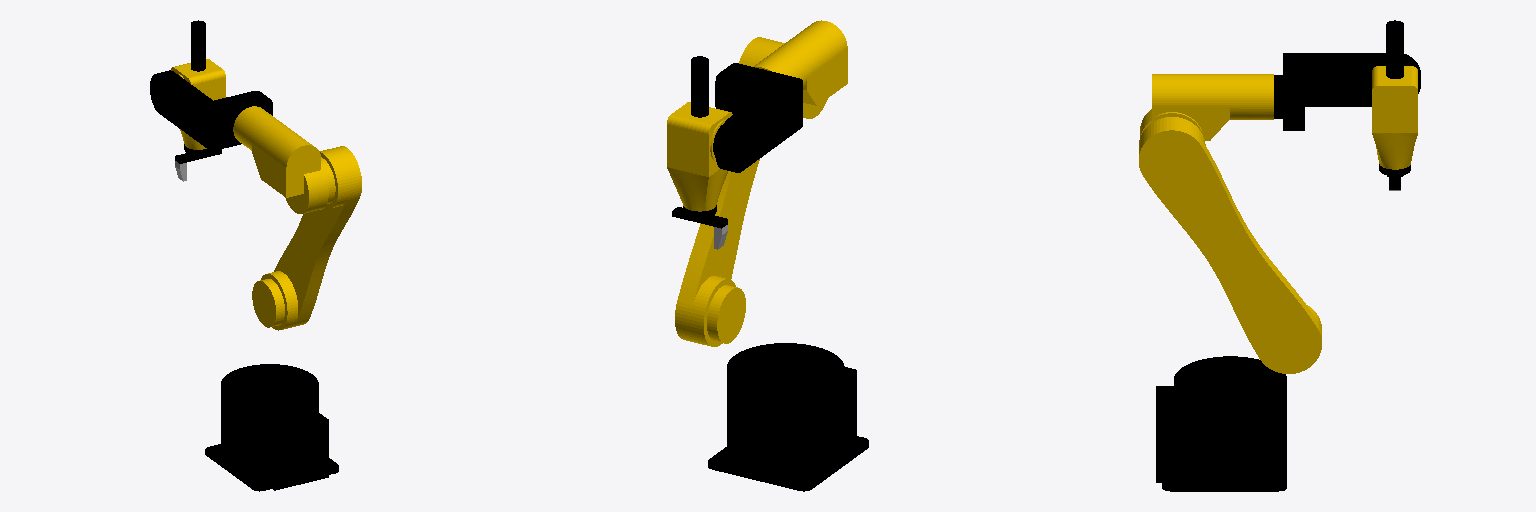
robot.urdf — majager:
<?xml version="1.0" ?>
<!-- =================================================================================== -->
<!-- |    This document was autogenerated by xacro from majager.xacro                  | -->
<!-- |    EDITING THIS FILE BY HAND IS NOT RECOMMENDED                                 | -->
<!-- =================================================================================== -->
<robot name="majager">
  <material name="silver">
    <color rgba="0.700 0.700 0.700 1.000"/>
  </material>
  <material name="Yellow">
    <color rgba="0.93 0.76 0.0 1.0"/>
  </material>
  <material name="Grey">
    <color rgba="0.7 0.7 0.7 1.0"/>
  </material>
  <material name="Black">
    <color rgba="0.0 0.0 0.0 1.0"/>
  </material>
  <gazebo>
    <plugin filename="libgazebo_ros_control.so" name="gazebo_ros_control">
      <robotSimType>gazebo_ros_control/DefaultRobotHWSim</robotSimType>
      <robotNamespace>/majager</robotNamespace>
      <robotParam>robot_description</robotParam>
      <legacyModeNS>true</legacyModeNS>
    </plugin>
  </gazebo>
  <gazebo reference="base_link">
    <material>Gazebo/Silver</material>
    <mu1>0.2</mu1>
    <mu2>0.2</mu2>
    <selfCollide>true</selfCollide>
    <gravity>true</gravity>
  </gazebo>
  <gazebo reference="Link1">
    <material>Gazebo/Silver</material>
    <mu1>0.2</mu1>
    <mu2>0.2</mu2>
    <selfCollide>true</selfCollide>
  </gazebo>
  <gazebo reference="Link2">
    <material>Gazebo/Silver</material>
    <mu1>0.2</mu1>
    <mu2>0.2</mu2>
    <selfCollide>true</selfCollide>
  </gazebo>
  <gazebo reference="Link3">
    <material>Gazebo/Silver</material>
    <mu1>0.2</mu1>
    <mu2>0.2</mu2>
    <selfCollide>true</selfCollide>
  </gazebo>
  <gazebo reference="Link4">
    <material>Gazebo/Silver</material>
    <mu1>0.2</mu1>
    <mu2>0.2</mu2>
    <selfCollide>true</selfCollide>
  </gazebo>
  <gazebo reference="Link5">
    <material>Gazebo/Silver</material>
    <mu1>0.2</mu1>
    <mu2>0.2</mu2>
    <selfCollide>true</selfCollide>
  </gazebo>
  <gazebo reference="Link6">
    <material>Gazebo/Silver</material>
    <mu1>0.2</mu1>
    <mu2>0.2</mu2>
    <selfCollide>true</selfCollide>
  </gazebo>
  <gazebo reference="Base_Gripper">
    <material>Gazebo/Silver</material>
    <mu1>0.2</mu1>
    <mu2>0.2</mu2>
    <selfCollide>true</selfCollide>
  </gazebo>
  <gazebo reference="Gripper_Left">
    <material>Gazebo/White</material>
    <mu1>1.0</mu1>
    <mu2>1.0</mu2>
    <kp>1000000.0</kp>
    <kd>1.0</kd>
    <minDepth>0.001</minDepth>
    <!--maxVel>0.1</maxVel>
  <fdir1>1 0 0</fdir1-->
  </gazebo>
  <gazebo reference="Gripper_Right">
    <material>Gazebo/White</material>
    <mu1>1.0</mu1>
    <mu2>1.0</mu2>
    <kp>1000000.0</kp>
    <kd>1.0</kd>
    <minDepth>0.001</minDepth>
    <!--maxVel>0.1</maxVel>
  <fdir1>1 0 0</fdir1-->
  </gazebo>
  <!-- World frame (for Gazebo) -->
  <link name="world"/>
  <!-- Arm fixed to world frame  -->
  <joint name="world__base_link" type="fixed">
    <parent link="world"/>
    <child link="base_link"/>
    <origin rpy="0 0 0" xyz="0 0 0"/>
  </joint>
  <link name="base_link">
    <inertial>
      <mass value="351.2471728207797"/>
      <origin rpy="0 0 0" xyz="-7.089415568373423e-17 -0.022734689380917134 0.15849931820776944"/>
      <inertia ixx="7.803246" ixy="0" ixz="0" iyy="6.469342" iyz="0" izz="7.933037"/>
    </inertial>
    <collision>
      <origin rpy="0 0 0" xyz="0 0 0"/>
      <geometry>
        <mesh filename="package://majager_description/meshes/base_link.stl" scale="0.001 0.001 0.001"/>
      </geometry>
    </collision>
    <visual>
      <origin rpy="0 0 0" xyz="0 0 0"/>
      <geometry>
        <mesh filename="package://majager_description/meshes/base_link.stl" scale="0.001 0.001 0.001"/>
      </geometry>
      <material name="Black"/>
    </visual>
  </link>
  <joint name="Base_to_Link1" type="continuous">
    <axis xyz="-0.0 -0.0 1.0"/>
    <limit effort="100" velocity="100"/>
    <origin rpy="0 0 0" xyz="0.0 0.0 0.33"/>
    <parent link="base_link"/>
    <child link="Link1"/>
  </joint>
  <transmission name="Base_to_Link1_tran">
    <type>transmission_interface/SimpleTransmission</type>
    <joint name="Base_to_Link1">
      <hardwareInterface>hardware_interface/PositionJointInterface</hardwareInterface>
    </joint>
    <actuator name="Base_to_Link1_actr">
      <hardwareInterface>hardware_interface/PositionJointInterface</hardwareInterface>
      <mechanicalReduction>1</mechanicalReduction>
    </actuator>
  </transmission>
  <link name="Link1">
    <inertial>
      <mass value="5.52547968640361"/>
      <origin rpy="0 0 0" xyz="0.010990144273109063 0.0882068365110577 0.13577480191631508"/>
      <inertia ixx="3.160703" ixy="-0.14808" ixz="-0.151302" iyy="1.945221" iyz="-1.098862" izz="2.215367"/>
    </inertial>
    <collision>
      <origin rpy="0 0 0" xyz="0.0 0.0 -0.33"/>
      <geometry>
        <mesh filename="package://majager_description/meshes/Link1.stl" scale="0.001 0.001 0.001"/>
      </geometry>
    </collision>
    <visual>
      <origin rpy="0 0 0" xyz="0.0 0.0 -0.33"/>
      <geometry>
        <mesh filename="package://majager_description/meshes/Link1.stl" scale="0.001 0.001 0.001"/>
      </geometry>
      <material name="Yellow"/>
    </visual>
  </link>
  <joint name="Link1_to_Link2" type="revolute">
    <axis xyz="1.0 0.0 0.0"/>
    <limit effort="100" lower="-3.3161255" upper="1.3963" velocity="100"/>
    <origin rpy="0.5235987756 0 0" xyz="0.09 0.2 0.25"/>
    <parent link="Link1"/>
    <child link="Link2"/>
  </joint>
  <transmission name="Link1_to_Link2_tran">
    <type>transmission_interface/SimpleTransmission</type>
    <joint name="Link1_to_Link2">
      <hardwareInterface>hardware_interface/PositionJointInterface</hardwareInterface>
    </joint>
    <actuator name="Link1_to_Link2_actr">
      <hardwareInterface>hardware_interface/PositionJointInterface</hardwareInterface>
      <mechanicalReduction>1</mechanicalReduction>
    </actuator>
  </transmission>
  <link name="Link2">
    <inertial>
      <mass value="5.82400607636134"/>
      <origin rpy="0 0 0" xyz="0.0953874109671839 -1.1102230246251565e-14 0.3999420840487563"/>
      <inertia ixx="16.907224" ixy="0" ixz="0" iyy="16.692266" iyz="0" izz="0.659521"/>
    </inertial>
    <collision>
      <origin rpy="0 0 0" xyz="-0.09 -0.2 -0.58"/>
      <geometry>
        <mesh filename="package://majager_description/meshes/Link2.stl" scale="0.001 0.001 0.001"/>
      </geometry>
    </collision>
    <visual>
      <origin rpy="0 0 0" xyz="-0.09 -0.2 -0.58"/>
      <geometry>
        <mesh filename="package://majager_description/meshes/Link2.stl" scale="0.001 0.001 0.001"/>
      </geometry>
      <material name="Yellow"/>
    </visual>
  </link>
  <joint name="Link2_to_Link3" type="revolute">
    <axis xyz="1.0 -0.0 0.0"/>
    <limit effort="100" lower="-0.7" upper="4.2" velocity="100"/>
    <origin rpy="-0.5235987756 0 0" xyz="0.0 0.0 0.8"/>
    <parent link="Link2"/>
    <child link="Link3"/>
  </joint>
  <transmission name="Link2_to_Link3_tran">
    <type>transmission_interface/SimpleTransmission</type>
    <joint name="Link2_to_Link3">
      <hardwareInterface>hardware_interface/PositionJointInterface</hardwareInterface>
    </joint>
    <actuator name="Link2_to_Link3_actr">
      <hardwareInterface>hardware_interface/PositionJointInterface</hardwareInterface>
      <mechanicalReduction>1</mechanicalReduction>
    </actuator>
  </transmission>
  <link name="Link3">
    <inertial>
      <mass value="2.14016041688751"/>
      <origin rpy="0 0 0" xyz="-0.08225410153755812 0.09831042517527713 0.08665205846011848"/>
      <inertia ixx="4.813544" ixy="0.160871" ixz="0.096164" iyy="0.718651" iyz="-0.721581" izz="4.447232"/>
    </inertial>
    <collision>
      <origin rpy="0 0 0" xyz="-0.09 -0.2 -1.38"/>
      <geometry>
        <mesh filename="package://majager_description/meshes/Link3.stl" scale="0.001 0.001 0.001"/>
      </geometry>
    </collision>
    <visual>
      <origin rpy="0 0 0" xyz="-0.09 -0.2 -1.38"/>
      <geometry>
        <mesh filename="package://majager_description/meshes/Link3.stl" scale="0.001 0.001 0.001"/>
      </geometry>
      <material name="Yellow"/>
    </visual>
  </link>
  <joint name="Link3_to_Link4" type="continuous">
    <axis xyz="0.0 1.0 0.0"/>
    <limit effort="100" velocity="100"/>
    <origin rpy="0 0 0" xyz="-0.09 0.35 0.13"/>
    <parent link="Link3"/>
    <child link="Link4"/>
  </joint>
  <transmission name="Link3_to_Link4_tran">
    <type>transmission_interface/SimpleTransmission</type>
    <joint name="Link3_to_Link4">
      <hardwareInterface>hardware_interface/PositionJointInterface</hardwareInterface>
    </joint>
    <actuator name="Link3_to_Link4_actr">
      <hardwareInterface>hardware_interface/PositionJointInterface</hardwareInterface>
      <mechanicalReduction>1</mechanicalReduction>
    </actuator>
  </transmission>
  <link name="Link4">
    <inertial>
      <mass value="2.036896395207224"/>
      <origin rpy="0 0 0" xyz="-0.01381923652259904 0.1126422845962809 1.5576813499063036e-06"/>
      <inertia ixx="0.061572" ixy="0.010471" ixz="-0.0" iyy="0.018205" iyz="-1e-06" izz="0.067201"/>
    </inertial>
    <collision>
      <origin rpy="0 0 0" xyz="-0.0 -0.55 -1.51"/>
      <geometry>
        <mesh filename="package://majager_description/meshes/Link4.stl" scale="0.001 0.001 0.001"/>
      </geometry>
    </collision>
    <visual>
      <origin rpy="0 0 0" xyz="-0.0 -0.55 -1.51"/>
      <geometry>
        <mesh filename="package://majager_description/meshes/Link4.stl" scale="0.001 0.001 0.001"/>
      </geometry>
      <material name="Black"/>
    </visual>
  </link>
  <joint name="Link4_to_Link5" type="revolute">
    <axis xyz="1.0 -0.0 0.0"/>
    <limit effort="100" lower="-0.87266" upper="4.01426" velocity="100"/>
    <origin rpy="0 0 0" xyz="-0.085 0.415 0.0"/>
    <parent link="Link4"/>
    <child link="Link5"/>
  </joint>
  <transmission name="Link4_to_Link5_tran">
    <type>transmission_interface/SimpleTransmission</type>
    <joint name="Link4_to_Link5">
      <hardwareInterface>hardware_interface/PositionJointInterface</hardwareInterface>
    </joint>
    <actuator name="Link4_to_Link5_actr">
      <hardwareInterface>hardware_interface/PositionJointInterface</hardwareInterface>
      <mechanicalReduction>1</mechanicalReduction>
    </actuator>
  </transmission>
  <link name="Link5">
    <inertial>
      <mass value="1.83303077561953"/>
      <origin rpy="0 0 0" xyz="-0.02715869025322588 -5.218048215738236e-15 -0.08759357763589937"/>
      <inertia ixx="0.167562" ixy="0" ixz="-0.016099" iyy="0.227483" iyz="0" izz="0.091889"/>
    </inertial>
    <collision>
      <origin rpy="0 0 0" xyz="0.085 -0.965 -1.51"/>
      <geometry>
        <mesh filename="package://majager_description/meshes/Link5.stl" scale="0.001 0.001 0.001"/>
      </geometry>
    </collision>
    <visual>
      <origin rpy="0 0 0" xyz="0.085 -0.965 -1.51"/>
      <geometry>
        <mesh filename="package://majager_description/meshes/Link5.stl" scale="0.001 0.001 0.001"/>
      </geometry>
      <material name="Yellow"/>
    </visual>
  </link>
  <joint name="Link5_to_Link6" type="prismatic">
    <axis xyz="0.0 -0.0 -1.0"/>
    <limit effort="100" lower="0.0" upper="0.3" velocity="100"/>
    <origin rpy="0 0 0" xyz="0.085 0.0 -0.25"/>
    <parent link="Link5"/>
    <child link="Link6"/>
  </joint>
  <transmission name="Link5_to_Link6_tran">
    <type>transmission_interface/SimpleTransmission</type>
    <joint name="Link5_to_Link6">
      <hardwareInterface>hardware_interface/PositionJointInterface</hardwareInterface>
    </joint>
    <actuator name="Link5_to_Link6_actr">
      <hardwareInterface>hardware_interface/PositionJointInterface</hardwareInterface>
      <mechanicalReduction>1</mechanicalReduction>
    </actuator>
  </transmission>
  <link name="Link6">
    <inertial>
      <mass value="1.9701696869512575"/>
      <origin rpy="0 0 0" xyz="-1.462357275260921e-16 -8.215650382226158e-15 -0.10789050337311945"/>
      <inertia ixx="0.009725" ixy="0" ixz="0.0" iyy="0.009725" iyz="0" izz="0.001313"/>
    </inertial>
    <collision>
      <origin rpy="0 0 0" xyz="0.0 -0.965 -1.26"/>
      <geometry>
        <mesh filename="package://majager_description/meshes/Link6.stl" scale="0.001 0.001 0.001"/>
      </geometry>
    </collision>
    <visual>
      <origin rpy="0 0 0" xyz="0.0 -0.965 -1.26"/>
      <geometry>
        <mesh filename="package://majager_description/meshes/Link6.stl" scale="0.001 0.001 0.001"/>
      </geometry>
      <material name="Black"/>
    </visual>
  </link>
  <joint name="Link6_to_Base_Gripper" type="continuous">
    <axis xyz="-0.0 -0.0 -1.0"/>
    <limit effort="100" velocity="100"/>
    <origin rpy="0 0 0" xyz="0.0 0.0 -0.03"/>
    <parent link="Link6"/>
    <child link="Base_Gripper"/>
  </joint>
  <transmission name="Link6_to_Base_Gripper_tran">
    <type>transmission_interface/SimpleTransmission</type>
    <joint name="Link6_to_Base_Gripper">
      <hardwareInterface>hardware_interface/PositionJointInterface</hardwareInterface>
    </joint>
    <actuator name="Link6_to_Base_Gripper_actr">
      <hardwareInterface>hardware_interface/PositionJointInterface</hardwareInterface>
      <mechanicalReduction>1</mechanicalReduction>
    </actuator>
  </transmission>
  <link name="Base_Gripper">
    <inertial>
      <mass value="1.1700579922254057"/>
      <origin rpy="0 0 0" xyz="-1.309810703716444e-16 -8.215650382226158e-15 -0.014382845951966372"/>
      <inertia ixx="0.000268" ixy="0" ixz="0" iyy="0.003233" iyz="0" izz="1"/>
    </inertial>
    <collision>
      <origin rpy="0 0 0" xyz="0.0 -0.965 -1.23"/>
      <geometry>
        <mesh filename="package://majager_description/meshes/Base_Gripper.stl" scale="0.001 0.001 0.001"/>
      </geometry>
    </collision>
    <visual>
      <origin rpy="0 0 0" xyz="0.0 -0.965 -1.23"/>
      <geometry>
        <mesh filename="package://majager_description/meshes/Base_Gripper.stl" scale="0.001 0.001 0.001"/>
      </geometry>
      <material name="Black"/>
    </visual>
  </link>
  <joint name="Base_Gripper_to_Gripper_Right" type="prismatic">
    <axis xyz="1.0 -0.0 -0.0"/>
    <limit effort="100" lower="0.0" upper="0.065" velocity="100"/>
    <origin rpy="0 0 0" xyz="-0.09 0.0 -0.0225"/>
    <parent link="Base_Gripper"/>
    <child link="Gripper_Right"/>
  </joint>
  <transmission name="Base_Gripper_to_Gripper_Right_tran">
    <type>transmission_interface/SimpleTransmission</type>
    <joint name="Base_Gripper_to_Gripper_Right">
      <hardwareInterface>hardware_interface/PositionJointInterface</hardwareInterface>
    </joint>
    <actuator name="Base_Gripper_to_Gripper_Right_actr">
      <hardwareInterface>hardware_interface/PositionJointInterface</hardwareInterface>
      <mechanicalReduction>1</mechanicalReduction>
    </actuator>
  </transmission>
  <link name="Gripper_Right">
    <inertial>
      <mass value="0.6554750004678966"/>
      <origin rpy="0 0 0" xyz="0.012095808747128123 -2.786659791809143e-14 -0.03856287422397031"/>
      <inertia ixx="0.00044" ixy="-0.0" ixz="3e-05" iyy="0.000397" iyz="-0.0" izz="0.000125"/>
    </inertial>
    <collision>
      <origin rpy="0 0 0" xyz="0.09 -0.965 -1.2075"/>
      <geometry>
        <mesh filename="package://majager_description/meshes/Gripper_Right.stl" scale="0.001 0.001 0.001"/>
      </geometry>
    </collision>
    <visual>
      <origin rpy="0 0 0" xyz="0.09 -0.965 -1.2075"/>
      <geometry>
        <mesh filename="package://majager_description/meshes/Gripper_Right.stl" scale="0.001 0.001 0.001"/>
      </geometry>
      <material name="Grey"/>
    </visual>
  </link>
  <joint name="Base_Gripper_to_Gripper_Left" type="prismatic">
    <axis xyz="-1.0 0.0 0.0"/>
    <limit effort="100" lower="0.0" upper="0.065" velocity="100"/>
    <origin rpy="0 0 0" xyz="0.09 0.0 -0.0225"/>
    <parent link="Base_Gripper"/>
    <child link="Gripper_Left"/>
  </joint>
  <transmission name="Base_Gripper_to_Gripper_Left_tran">
    <type>transmission_interface/SimpleTransmission</type>
    <joint name="Base_Gripper_to_Gripper_Left">
      <hardwareInterface>hardware_interface/PositionJointInterface</hardwareInterface>
    </joint>
    <actuator name="Base_Gripper_to_Gripper_Left_actr">
      <hardwareInterface>hardware_interface/PositionJointInterface</hardwareInterface>
      <mechanicalReduction>1</mechanicalReduction>
    </actuator>
  </transmission>
  <link name="Gripper_Left">
    <inertial>
      <mass value="0.6554750004678964"/>
      <origin rpy="0 0 0" xyz="-0.012095808747128373 8.992806499463768e-15 -0.03856287422397009"/>
      <inertia ixx="0.00044" ixy="0" ixz="-3e-05" iyy="0.000397" iyz="0" izz="0.000125"/>
    </inertial>
    <collision>
      <origin rpy="0 0 0" xyz="-0.09 -0.965 -1.2075"/>
      <geometry>
        <mesh filename="package://majager_description/meshes/Gripper_Left.stl" scale="0.001 0.001 0.001"/>
      </geometry>
    </collision>
    <visual>
      <origin rpy="0 0 0" xyz="-0.09 -0.965 -1.2075"/>
      <geometry>
        <mesh filename="package://majager_description/meshes/Gripper_Left.stl" scale="0.001 0.001 0.001"/>
      </geometry>
      <material name="Grey"/>
    </visual>
  </link>
</robot>

--- Render facts (derived) ---
3 views of the same robot in one strip: view 1: azimuth 30°, elevation 25°; view 2: azimuth 150°, elevation 25°; view 3: azimuth 270°, elevation 25° (orthographic).
Robot: majager — 11 links, 10 joints (3 revolute, 3 continuous, 3 prismatic, 1 fixed); root link world; default pose: every joint at zero.
Links seen in each view (by area): view 1: base_link, Link2, Link3, Link4, Link5, Link6; view 2: base_link, Link2, Link4, Link5, Link3, Link6; view 3: Link2, base_link, Link3, Link4, Link5, Link6.
Link boxes in pixels (<box>): base_link: <box>205,364,338,491</box>; Link2: <box>252,146,361,330</box>; Link3: <box>233,106,328,213</box>; Link4: <box>150,70,272,151</box>; Link5: <box>171,59,225,149</box>; Link6: <box>184,20,210,155</box>; base_link: <box>708,343,868,491</box>; Link2: <box>675,37,784,346</box>; Link4: <box>713,63,802,172</box>; Link5: <box>667,102,732,211</box>; Link3: <box>754,20,847,118</box>; Link6: <box>683,56,716,217</box>; Link2: <box>1139,117,1321,373</box>; base_link: <box>1156,356,1286,491</box>; Link3: <box>1140,74,1273,140</box>; Link4: <box>1274,53,1420,130</box>; Link5: <box>1372,66,1417,169</box>; Link6: <box>1379,20,1410,175</box>.
Bounding box of the posed robot: 0.435 × 0.97 × 1.68 m (x, y, z).
8 mesh visuals loaded from 10 distinct referenced files (8 binary STL); not drawn: 2 (reference not matched to a file when rendering).
